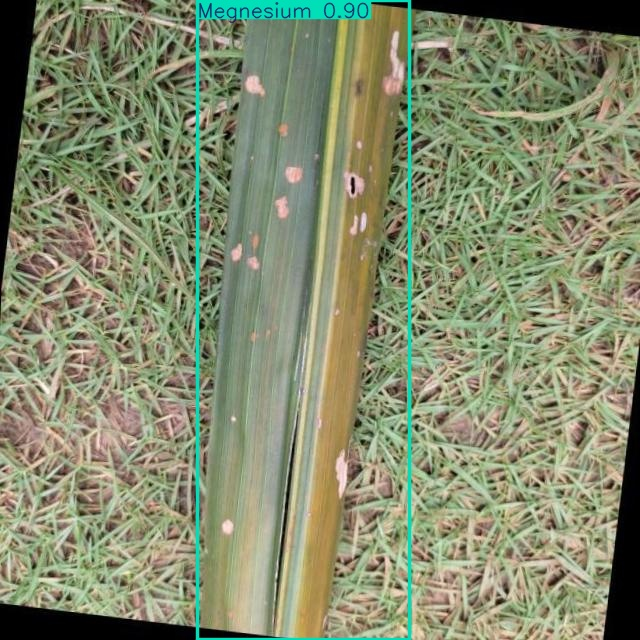Megnesium: (197, 0, 409, 640)
